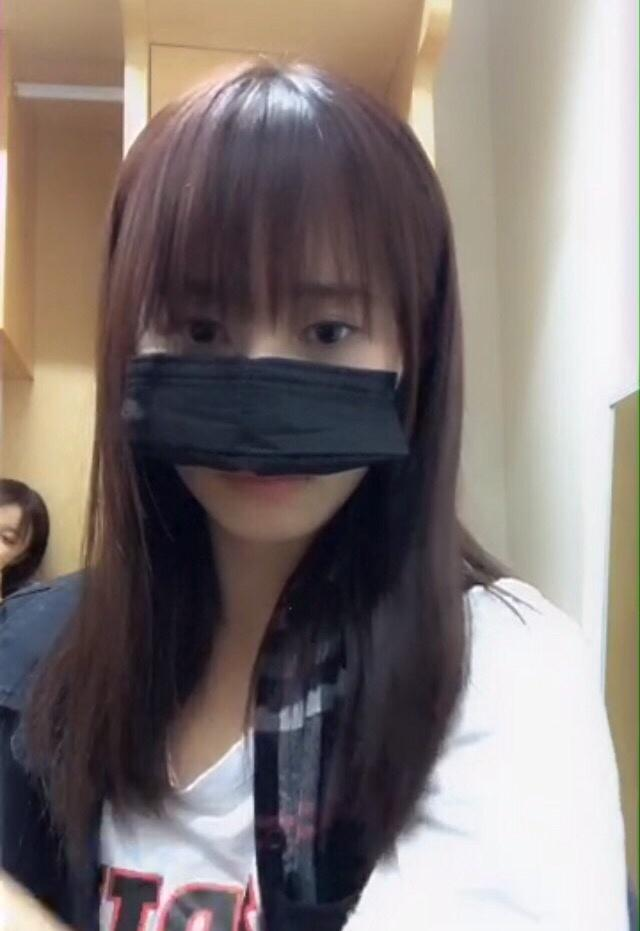NONE: (1, 521, 36, 577)
WRONG: (113, 248, 420, 555)
